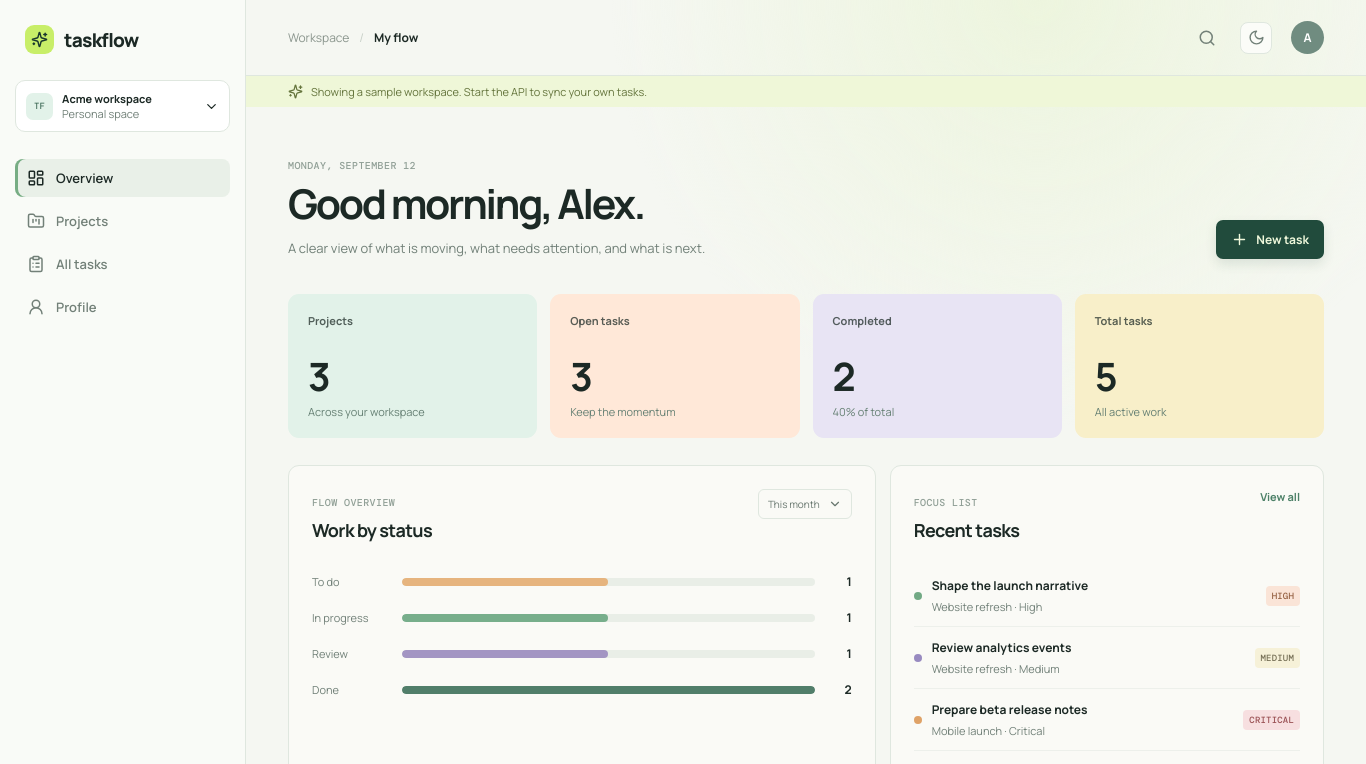
Test case: TaskFlow workspace › toggles and remembers the dark theme
The width and height of the screenshot is (1366, 764).
Click the button named "Switch to dark theme" at (1256, 38), box x1=1240 y1=22 x2=1272 y2=54
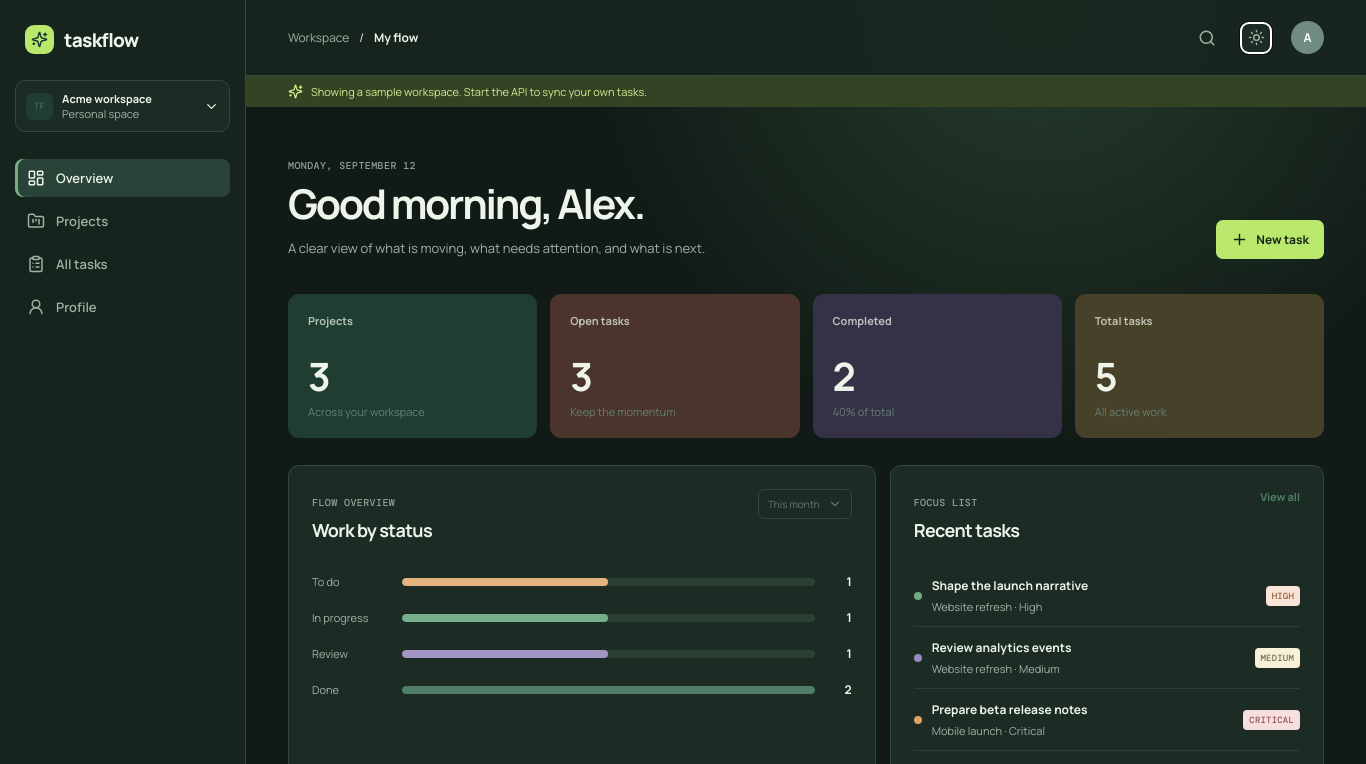
Check: the button named "Switch to light theme" is shown, box x1=1240 y1=22 x2=1272 y2=54
